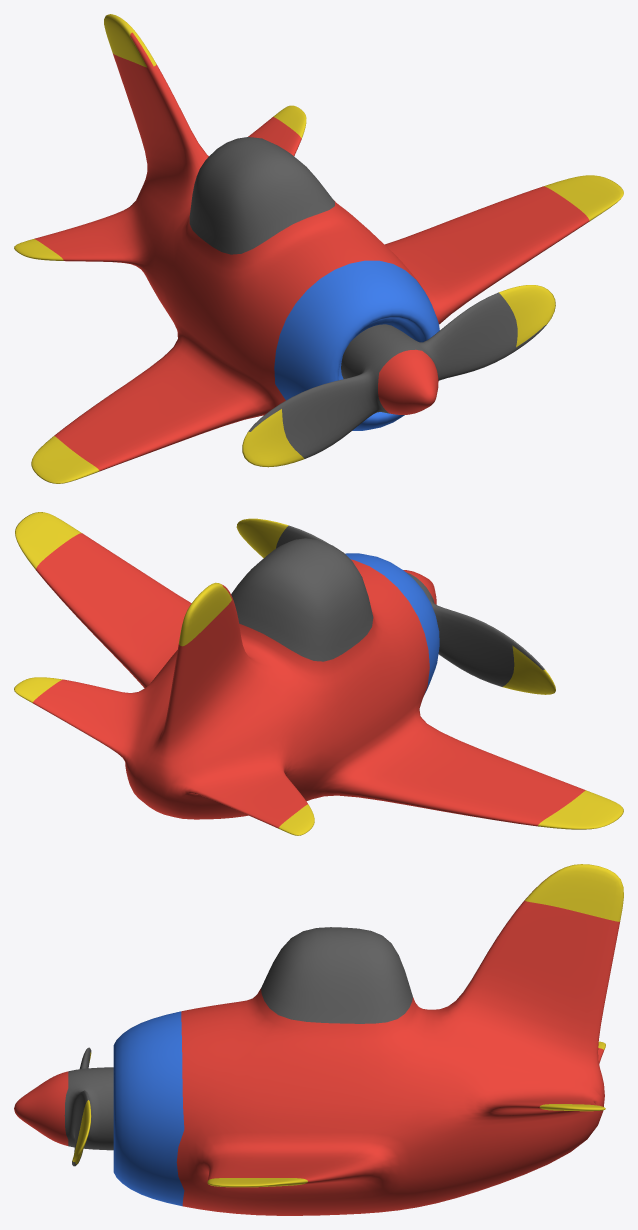
File: plane_animé.fbx
3 renders of one model, top to bottom at view 1: azimuth 30°, elevation 25°; view 2: azimuth 150°, elevation 25°; view 3: azimuth 270°, elevation 25°, orthographic. The views are drawn at different scales.
Parts seen in each view (by area): view 1: Cylinder, Cylinder.001; view 2: Cylinder, Cylinder.001; view 3: Cylinder, Cylinder.001.
Part boxes in pixels (x1,y1,x2,y2): Cylinder: [14, 14, 623, 483]; Cylinder.001: [242, 285, 555, 467]; Cylinder: [14, 512, 623, 835]; Cylinder.001: [236, 518, 555, 694]; Cylinder: [113, 864, 623, 1215]; Cylinder.001: [14, 1047, 113, 1166].
Size of the model in its own units: 575 by 277 by 486.
